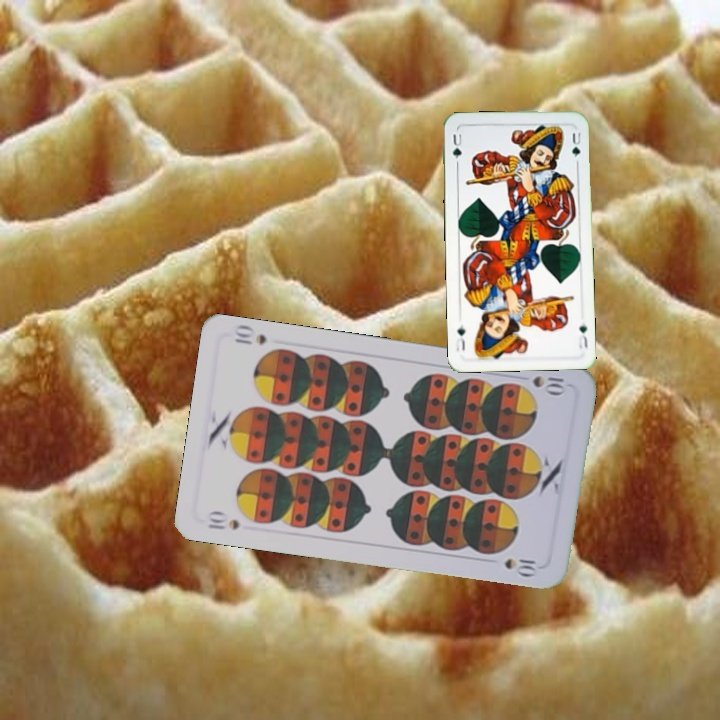GU: (574, 318, 590, 351), (449, 130, 464, 162)
S10: (529, 371, 568, 397), (203, 507, 242, 532)
